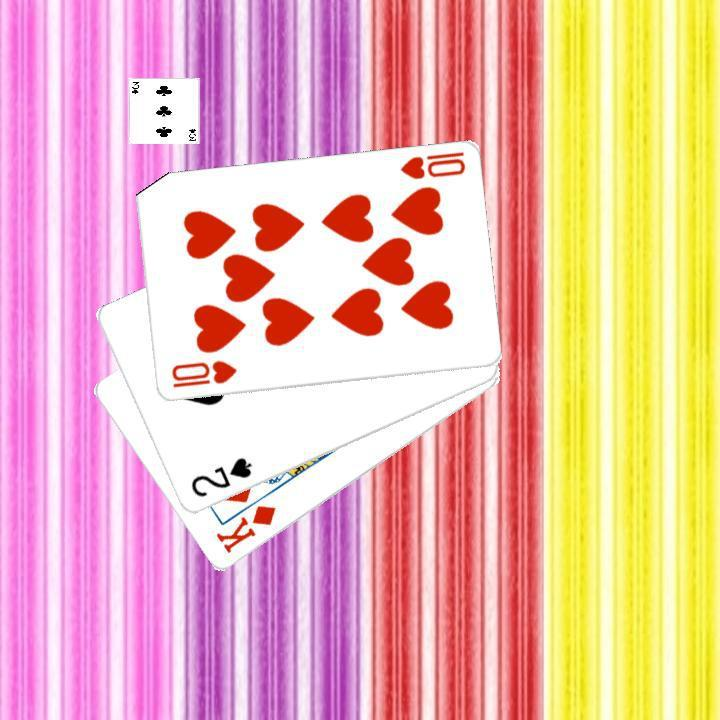10: (395, 147, 467, 182), (167, 356, 238, 391)
2: (186, 453, 254, 500)
K: (211, 501, 279, 556)
